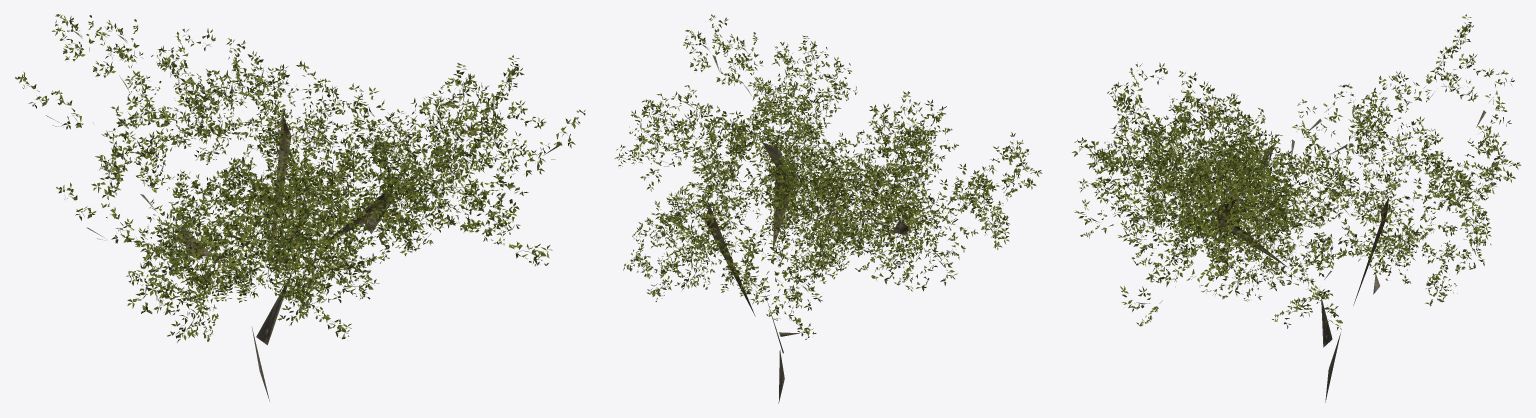
Rendered from reference-public_models_vegetation_broadleaf-2.glb.
3 renders of one model, left to right at view 1: azimuth 30°, elevation 25°; view 2: azimuth 150°, elevation 25°; view 3: azimuth 270°, elevation 25°, orthographic. The views are drawn at different scales.
Parts seen in each view (by area): view 1: Crown_broadleaf-2.015; view 2: Crown_broadleaf-2.015; view 3: Crown_broadleaf-2.015.
Part boxes in pixels (x1,y1,x2,y2): Crown_broadleaf-2.015: (15, 14, 585, 401); Crown_broadleaf-2.015: (614, 14, 1042, 403); Crown_broadleaf-2.015: (1072, 14, 1521, 402).
Size of the model in its own units: 4.67 by 3.98 by 4.93.
Materials: 3 (3 with a texture image).
